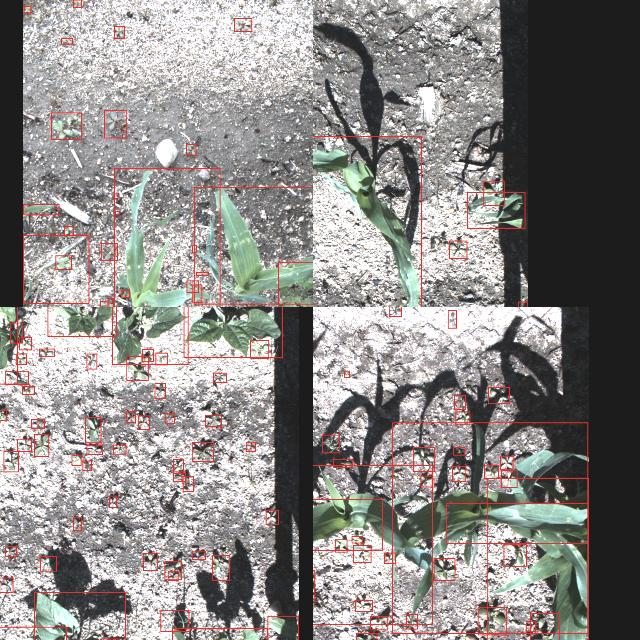crop: (392, 422, 588, 632), (313, 464, 431, 623), (313, 135, 421, 307), (486, 477, 587, 640), (113, 168, 219, 307), (193, 186, 313, 303), (446, 503, 588, 543), (183, 307, 282, 356), (22, 235, 88, 303), (33, 592, 124, 640), (111, 307, 187, 363), (313, 498, 381, 549), (467, 191, 525, 227), (46, 307, 115, 335), (0, 307, 16, 383), (0, 626, 65, 640), (22, 203, 58, 214)
weed: (277, 261, 313, 307), (530, 612, 559, 640), (51, 112, 81, 138), (267, 615, 298, 640), (478, 608, 506, 634), (103, 109, 125, 137), (160, 610, 188, 630), (412, 446, 433, 472), (126, 356, 148, 380), (504, 544, 526, 566), (484, 181, 504, 205), (212, 554, 230, 580), (434, 558, 454, 580), (192, 442, 212, 461), (86, 416, 100, 442), (164, 560, 182, 580), (449, 240, 467, 258), (250, 339, 268, 357), (352, 544, 370, 562), (2, 451, 18, 471), (488, 387, 508, 403), (34, 434, 48, 456), (5, 371, 28, 384), (100, 242, 116, 260), (322, 434, 338, 452), (501, 469, 517, 486), (38, 556, 56, 570), (143, 552, 157, 570), (369, 616, 387, 630), (10, 322, 22, 342), (234, 18, 252, 30), (56, 255, 70, 269), (17, 438, 31, 452), (484, 464, 498, 478), (452, 466, 466, 480), (205, 414, 221, 426), (192, 284, 202, 302), (354, 600, 372, 610), (266, 509, 278, 523), (182, 476, 194, 490), (455, 411, 469, 423), (500, 455, 512, 469), (0, 576, 11, 591), (448, 309, 457, 327), (86, 444, 102, 454), (154, 382, 164, 398), (332, 458, 352, 466), (355, 633, 376, 640), (186, 280, 198, 292), (19, 337, 31, 349), (334, 539, 346, 551), (173, 458, 183, 472), (112, 444, 126, 454), (138, 415, 148, 429), (86, 354, 96, 368), (142, 348, 152, 362), (406, 614, 416, 628), (454, 395, 464, 409), (14, 352, 26, 363), (156, 352, 167, 364), (31, 418, 44, 428), (38, 348, 54, 356), (113, 26, 123, 38), (4, 546, 16, 556), (173, 471, 185, 481), (214, 372, 226, 382), (420, 476, 432, 486), (73, 516, 81, 530), (125, 411, 135, 422), (186, 144, 196, 154), (167, 570, 177, 580), (384, 552, 394, 562), (525, 621, 535, 631), (164, 412, 173, 423), (72, 454, 80, 466), (21, 386, 33, 394), (192, 550, 204, 558), (453, 446, 465, 454), (388, 307, 400, 315), (246, 442, 256, 451), (82, 460, 90, 470), (60, 37, 72, 43), (108, 496, 115, 506), (351, 536, 362, 542), (64, 226, 72, 234), (72, 0, 81, 7), (107, 297, 112, 307), (0, 410, 5, 420), (99, 300, 106, 307), (120, 290, 128, 296), (22, 6, 30, 12), (192, 244, 196, 252), (196, 272, 208, 274), (113, 192, 117, 198), (343, 372, 349, 376), (114, 210, 118, 213)
